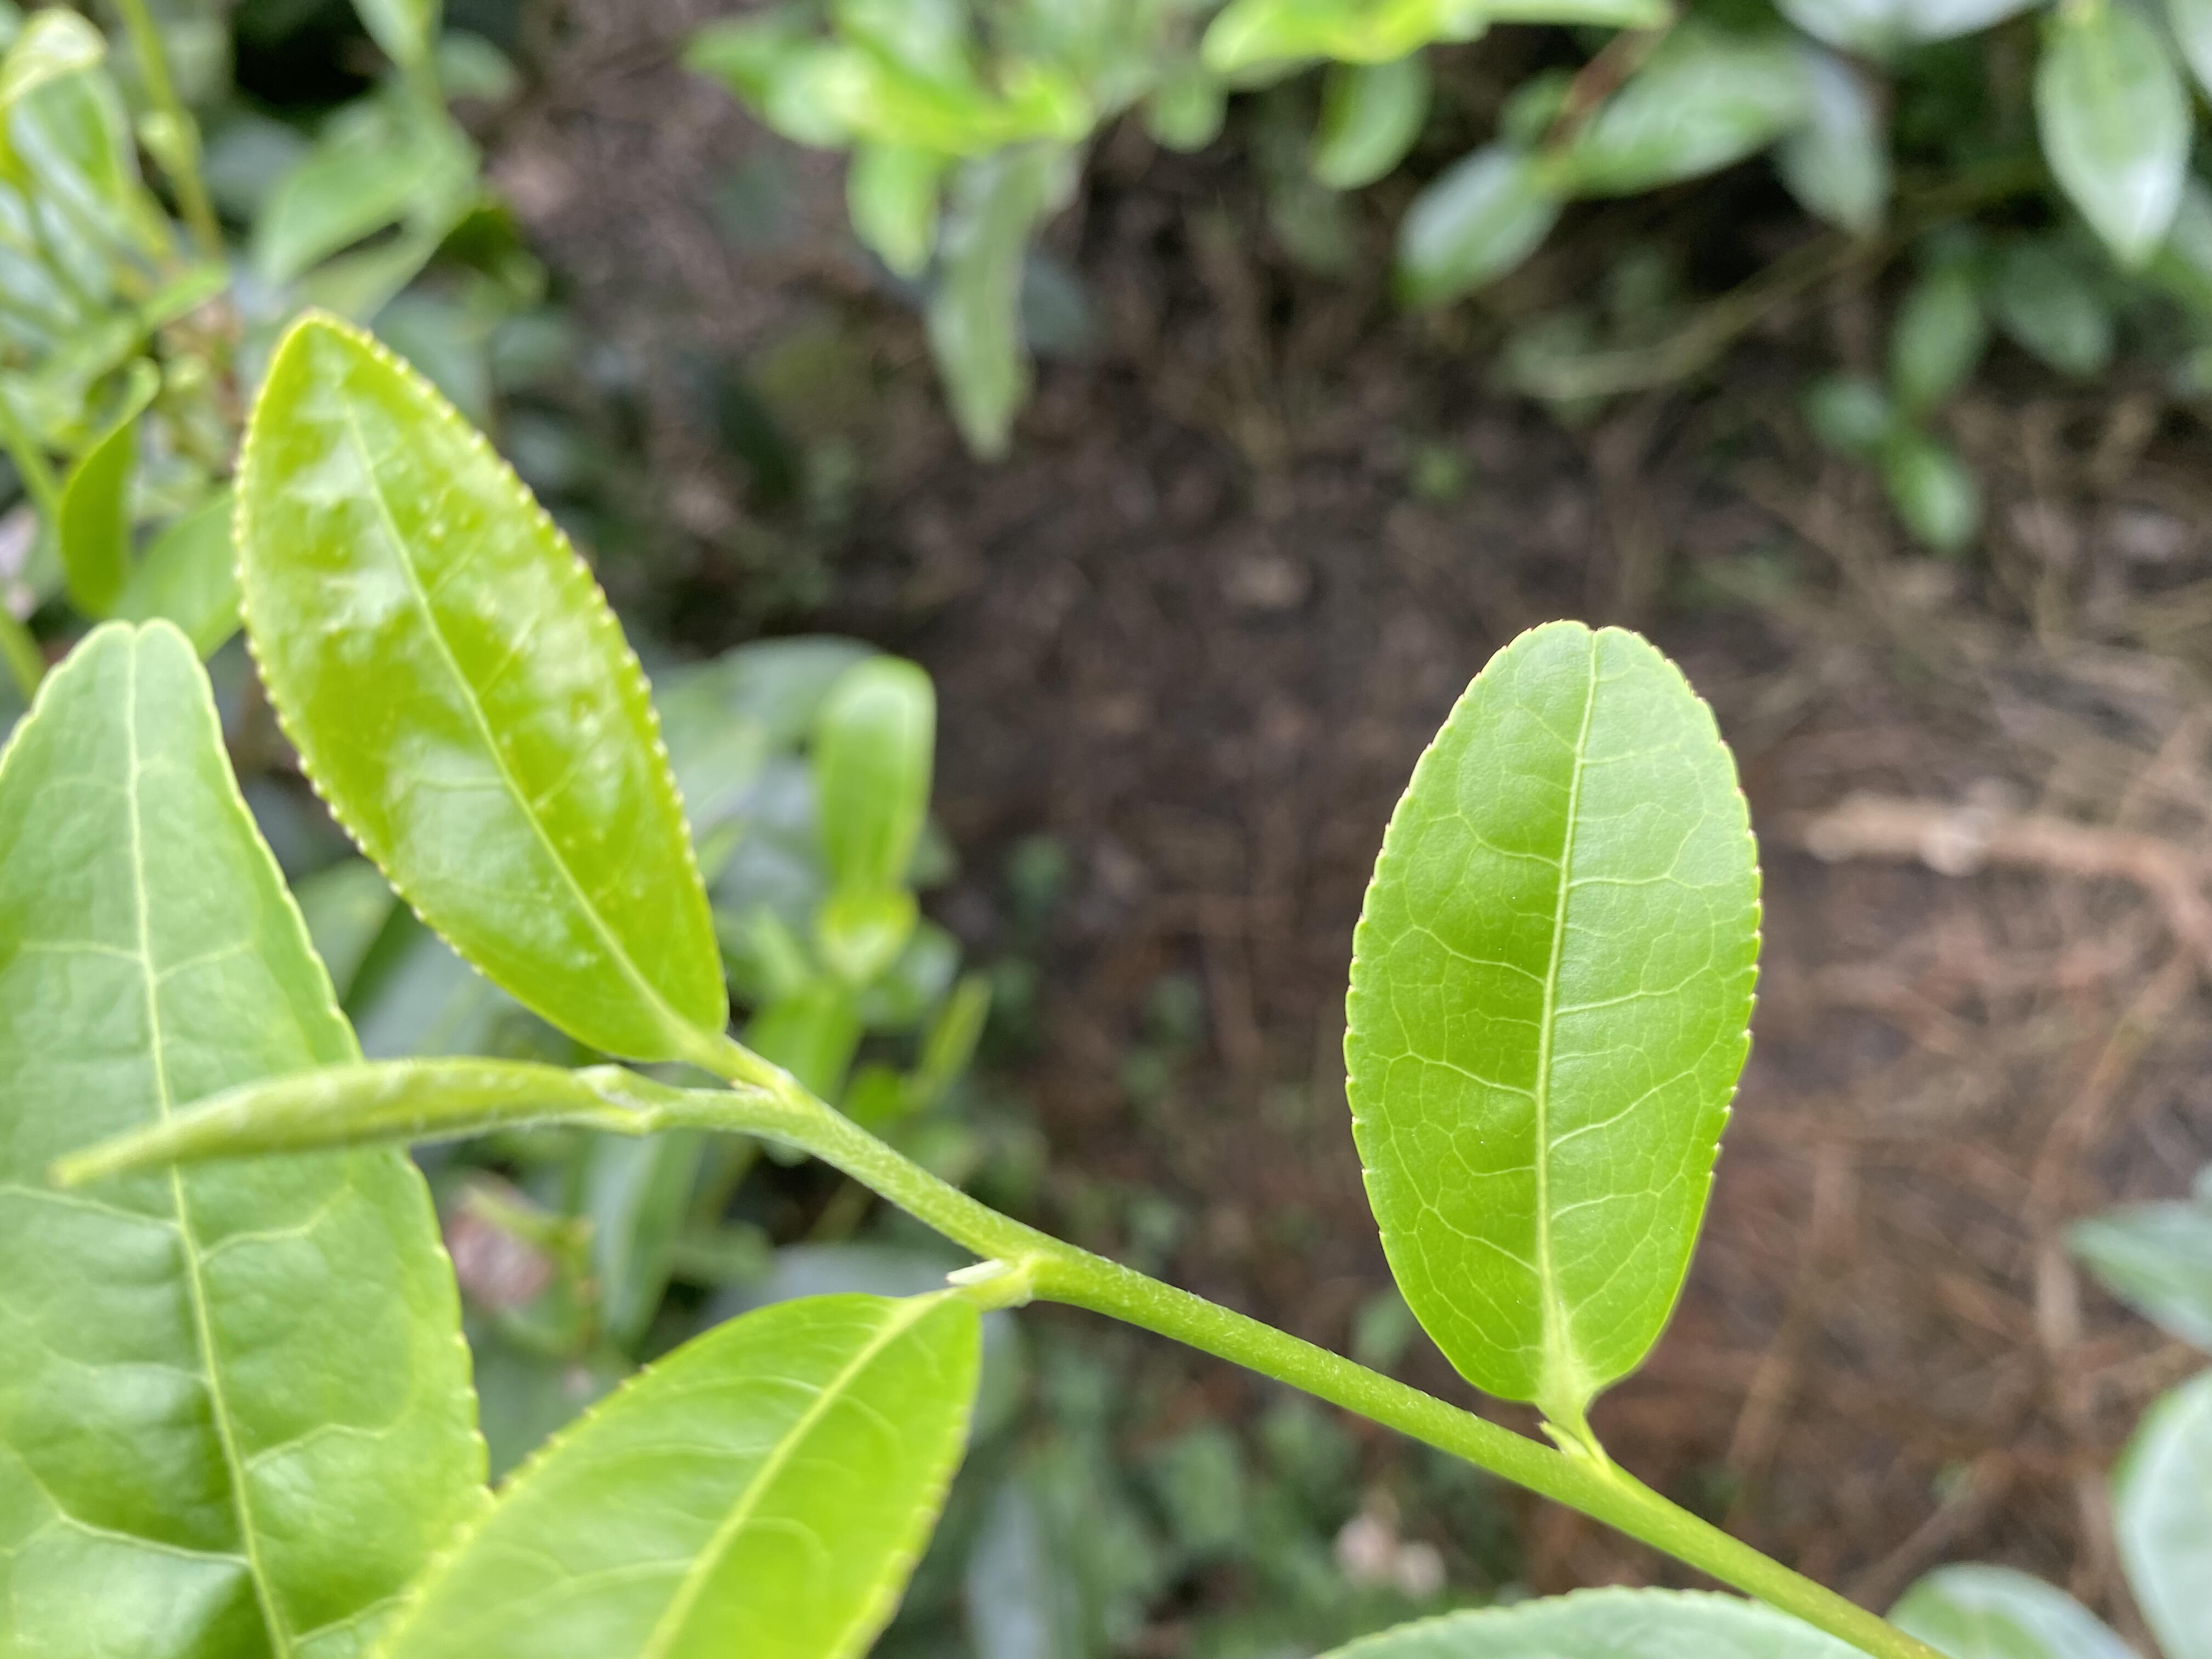healthy: (2, 615, 491, 1656), (230, 308, 732, 1068), (1346, 619, 1768, 1405), (376, 1290, 986, 1656)
